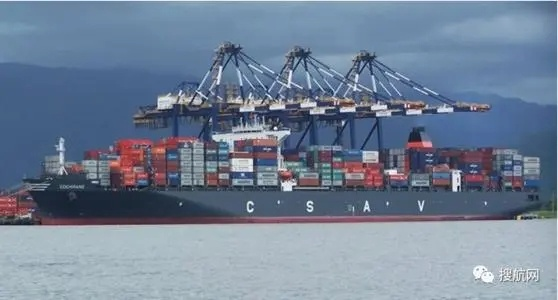Cargoship: (25, 46, 551, 223)
